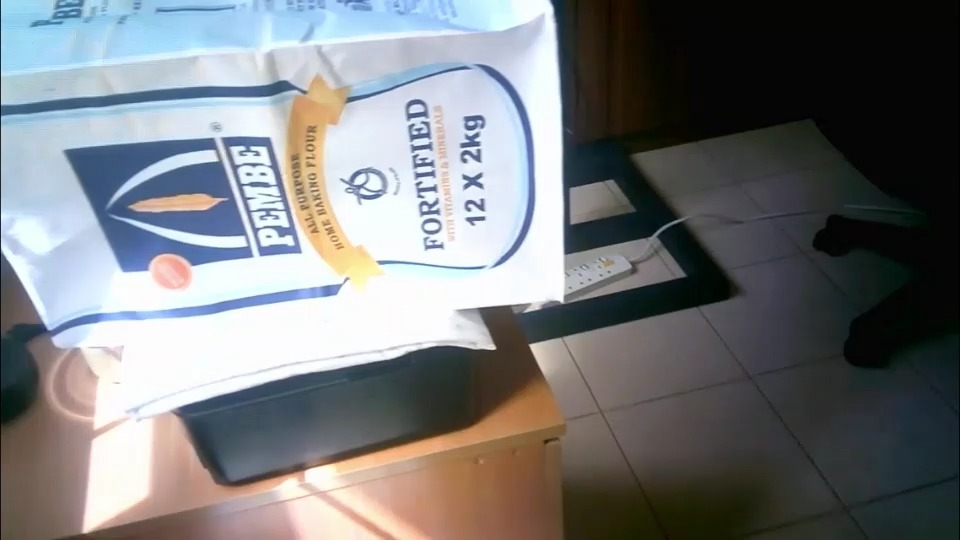wheat_flour_blue_label: (2, 2, 568, 346)
